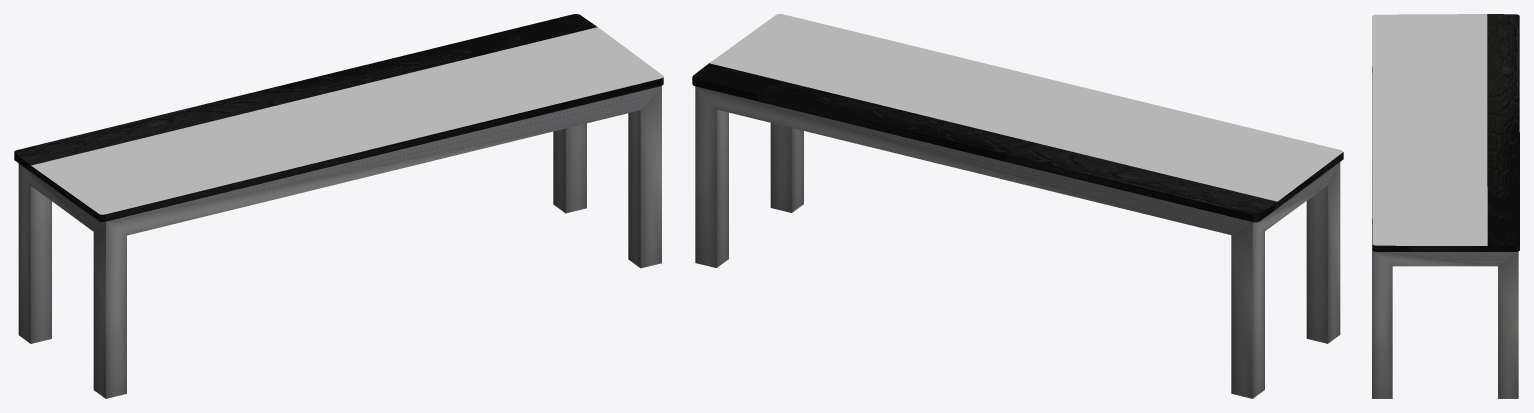
Rendered from MesaComputo.FBX.
3 renders of one model, left to right at view 1: azimuth 30°, elevation 25°; view 2: azimuth 150°, elevation 25°; view 3: azimuth 270°, elevation 25°, orthographic. The views are drawn at different scales.
Parts seen in each view (by area): view 1: Tabla, Patas; view 2: Tabla, Patas; view 3: Tabla, Patas.
Part boxes in pixels (box(x1,y1,x2,y2)): Tabla: box(14, 14, 663, 221); Patas: box(18, 86, 661, 398); Tabla: box(692, 14, 1343, 222); Patas: box(695, 86, 1340, 398); Tabla: box(1372, 14, 1519, 251); Patas: box(1372, 73, 1518, 398).
Size of the model in its own units: 94.49 by 29.4 by 25.45.
